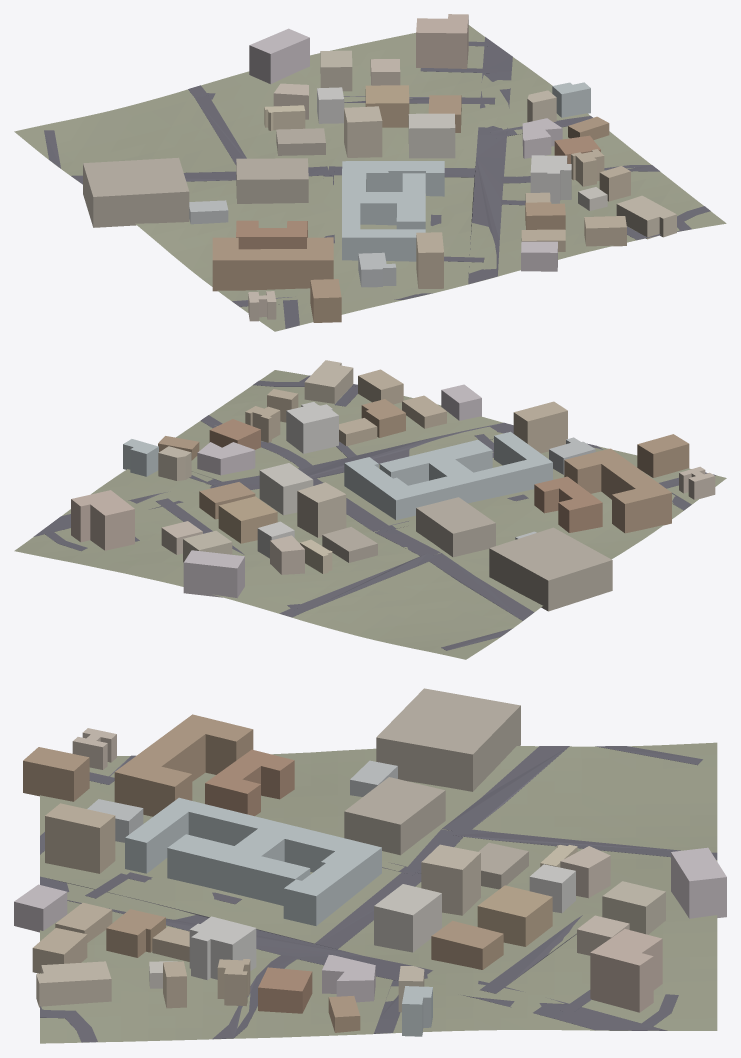
The model's file is chunk_5_1.glb.
3 renders of one model, top to bottom at view 1: azimuth 30°, elevation 25°; view 2: azimuth 150°, elevation 25°; view 3: azimuth 270°, elevation 25°, orthographic. The views are drawn at different scales.
Parts seen in each view (by area): view 1: geometry_37, geometry_28, geometry_0, geometry_2, geometry_22, geometry_48, geometry_27, geometry_26, geometry_18, geometry_21, geometry_3, geometry_12 (+29 smaller); view 2: geometry_37, geometry_28, geometry_0, geometry_2, geometry_22, geometry_27, geometry_3, geometry_26, geometry_14, geometry_21, geometry_9, geometry_48 (+32 smaller); view 3: geometry_37, geometry_28, geometry_0, geometry_2, geometry_22, geometry_27, geometry_9, geometry_3, geometry_18, geometry_20, geometry_26, geometry_21 (+35 smaller).
Boxes of the visible parts, x1,y1,x2,y2 form: geometry_37: (14, 25, 726, 331); geometry_28: (342, 161, 444, 261); geometry_0: (83, 157, 189, 227); geometry_2: (212, 237, 333, 291); geometry_22: (236, 158, 308, 203); geometry_48: (468, 135, 506, 284); geometry_27: (416, 14, 468, 68); geometry_26: (249, 28, 309, 84); geometry_18: (408, 113, 455, 158); geometry_21: (344, 106, 382, 157); geometry_3: (236, 220, 307, 249); geometry_12: (616, 195, 676, 239); geometry_37: (14, 370, 726, 659); geometry_28: (344, 431, 552, 520); geometry_0: (489, 527, 612, 611); geometry_2: (564, 448, 671, 533); geometry_22: (416, 497, 495, 557); geometry_27: (71, 490, 134, 550); geometry_3: (534, 476, 602, 532); geometry_26: (183, 550, 244, 598); geometry_14: (286, 402, 338, 453); geometry_21: (297, 482, 346, 537); geometry_9: (513, 401, 567, 453); geometry_48: (221, 422, 513, 489); geometry_37: (40, 742, 717, 1043); geometry_28: (125, 797, 381, 925); geometry_0: (376, 688, 520, 791); geometry_2: (114, 714, 253, 816); geometry_22: (344, 777, 445, 855); geometry_27: (590, 929, 662, 1012); geometry_9: (45, 803, 115, 873); geometry_3: (205, 749, 294, 816); geometry_18: (374, 884, 441, 952); geometry_20: (477, 885, 552, 946); geometry_26: (671, 847, 726, 918); geometry_21: (421, 844, 480, 915).
Bounding box in the file's own units: 271 × 24.71 × 263.
